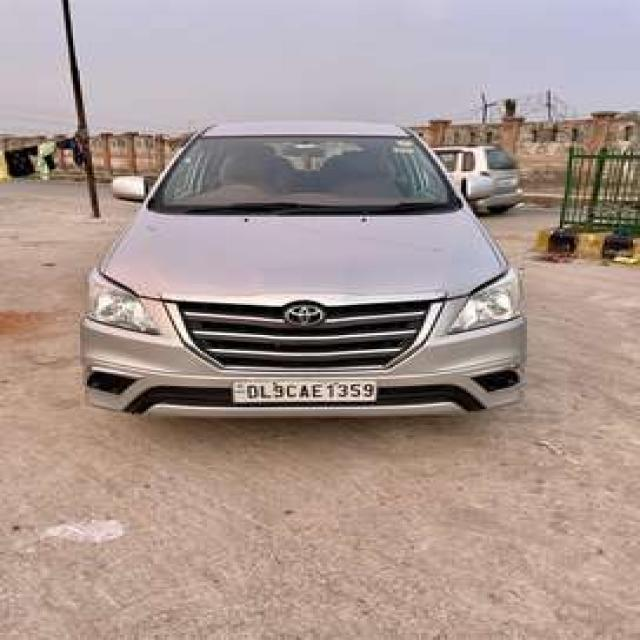license-plate: (228, 378, 376, 400)
